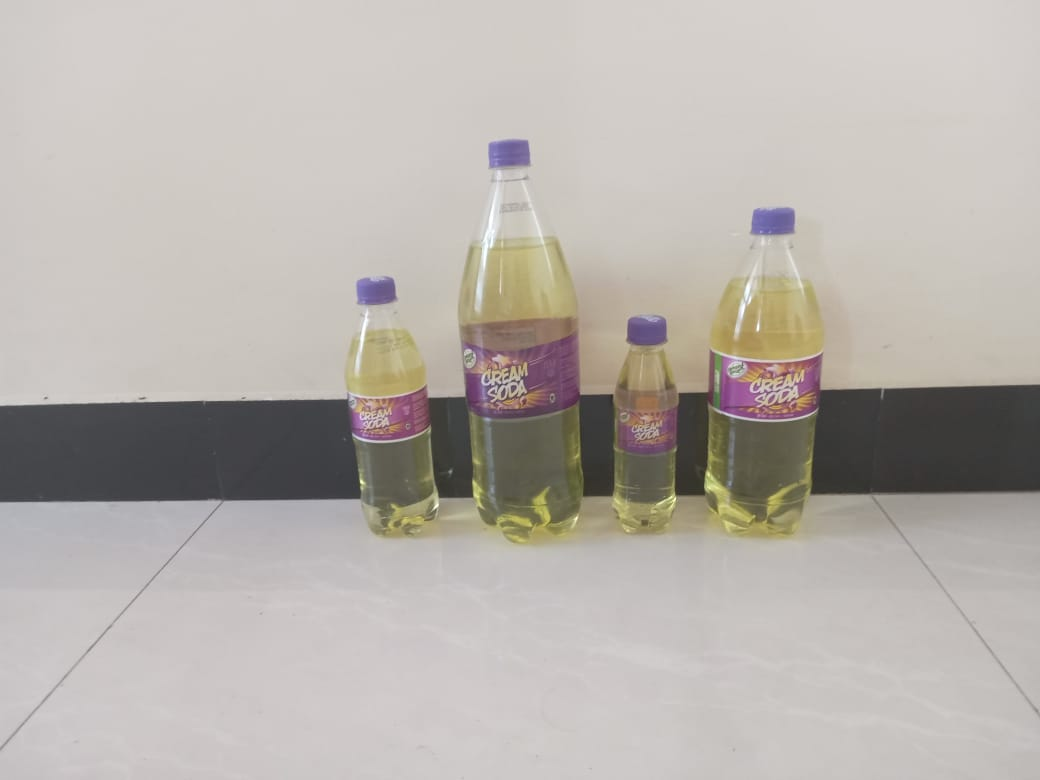L: (458, 141, 589, 547)
M: (703, 203, 825, 540)
S: (338, 276, 442, 543)
Xs: (609, 317, 684, 536)
